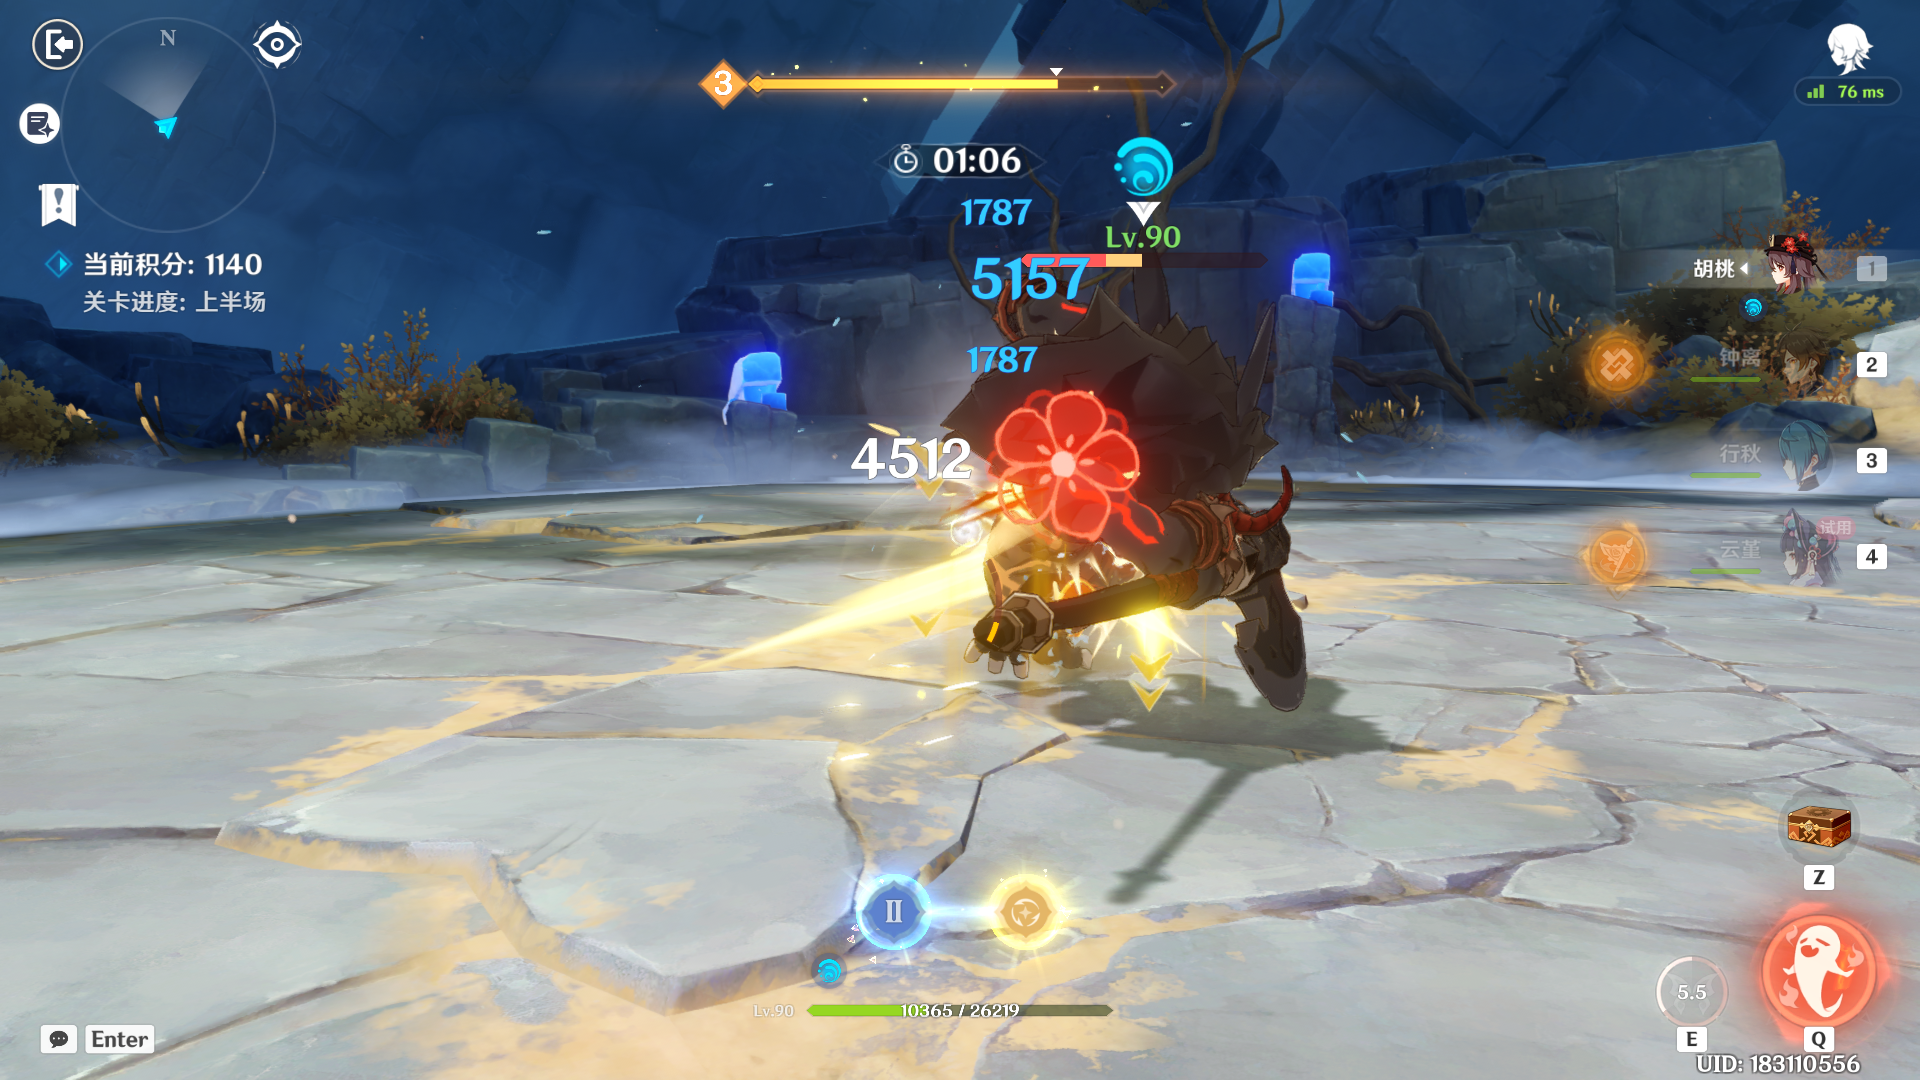bighili: (876, 164, 1391, 703)
